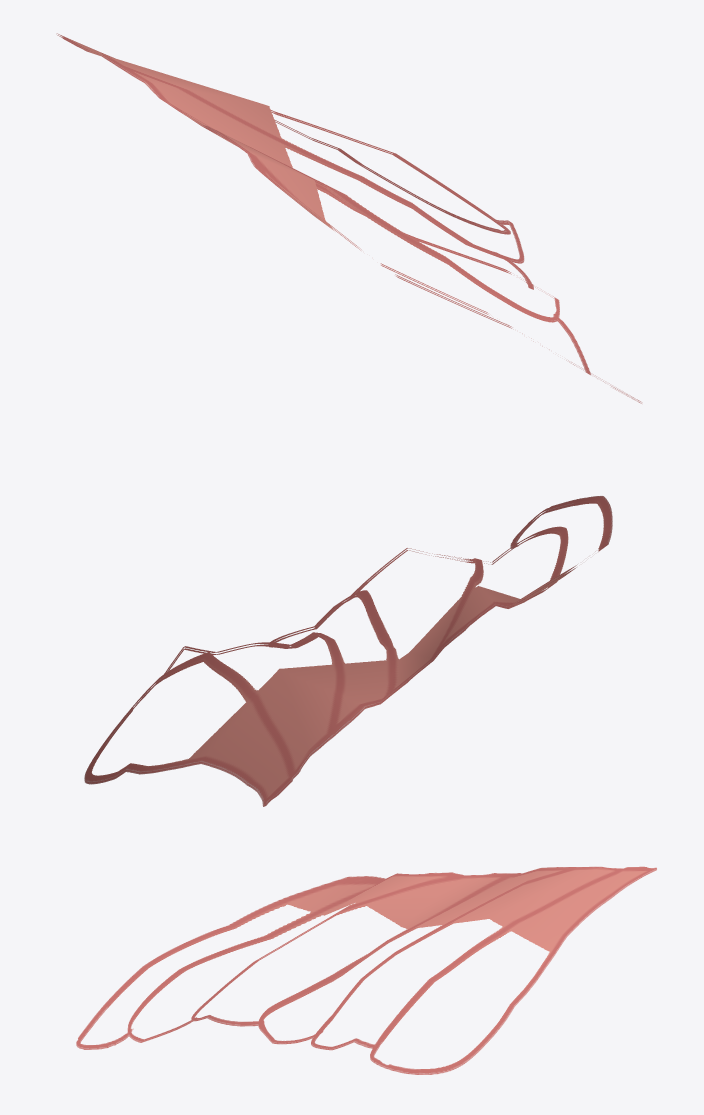
File: fin2.fbx
3 renders of one model, top to bottom at view 1: azimuth 30°, elevation 25°; view 2: azimuth 150°, elevation 25°; view 3: azimuth 270°, elevation 25°, orthographic. The views are drawn at different scales.
Parts seen in each view (by area): view 1: fin2; view 2: fin2; view 3: fin2.
Part boxes in pixels (x1,y1,x2,y2): fin2: (56, 33, 642, 403); fin2: (84, 496, 612, 806); fin2: (76, 866, 656, 1074).
Size of the model in its own units: 10.73 by 6.01 by 27.4.
